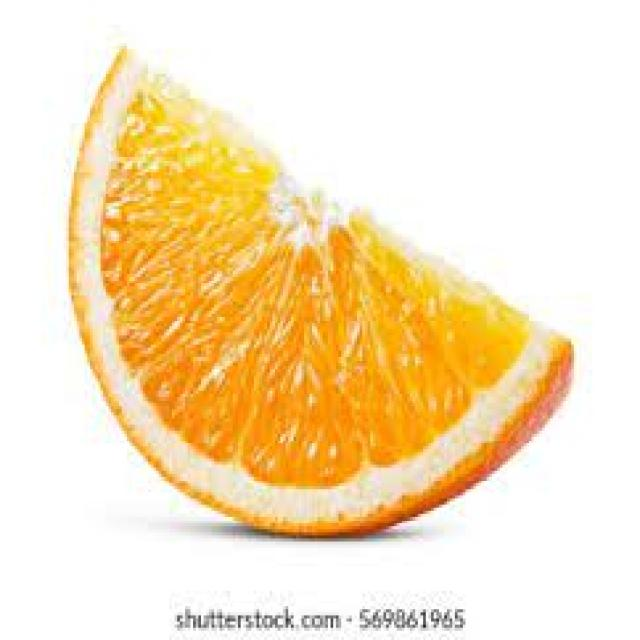orange: (66, 37, 577, 551)
